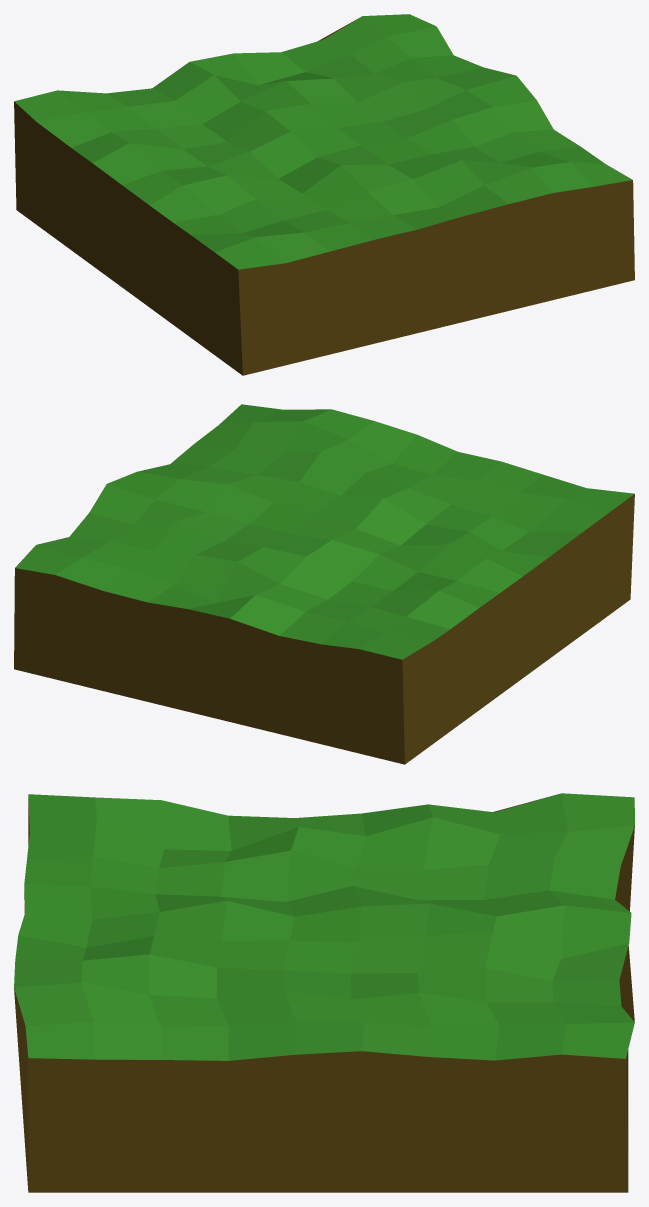
The model's file is Tile 1.fbx.
3 views of the same model, one above another, from view 1: azimuth 30°, elevation 25°; view 2: azimuth 150°, elevation 25°; view 3: azimuth 270°, elevation 25° (orthographic). The views are drawn at different scales.
Visible parts, largest first — view 1: Cube.009; view 2: Cube.009; view 3: Cube.009.
Boxes of the visible parts, left/top/right/bottom form: Cube.009: left=14, top=14, right=634, bottom=375; Cube.009: left=14, top=404, right=634, bottom=764; Cube.009: left=14, top=793, right=634, bottom=1192.
Size of the model in its own units: 103 by 28.77 by 104.
